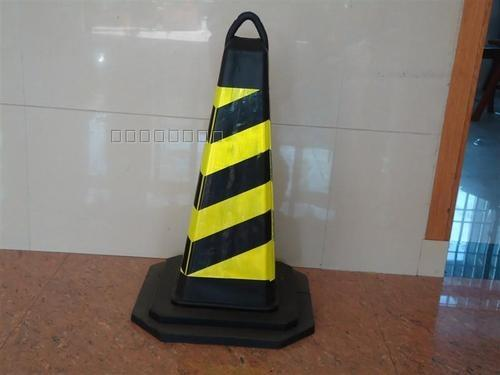cone_barrel: (163, 15, 294, 313)
